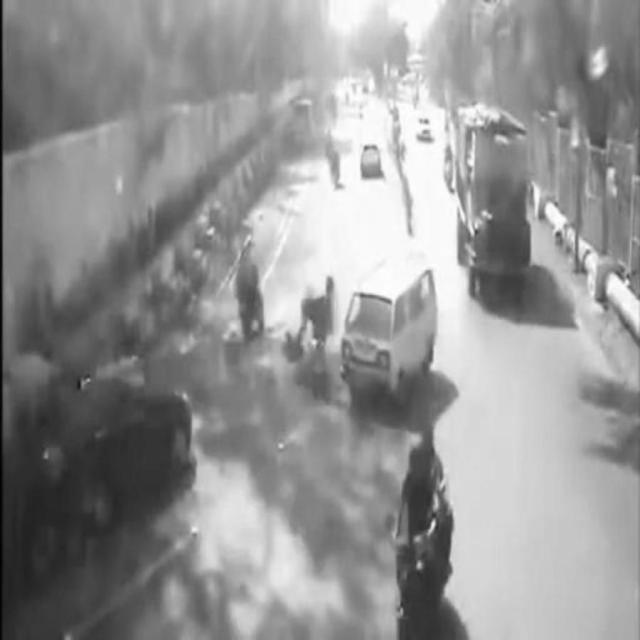accident: (280, 253, 442, 407)
vehicle: (27, 380, 197, 538), (455, 112, 536, 302), (388, 427, 458, 631), (229, 239, 271, 343)
